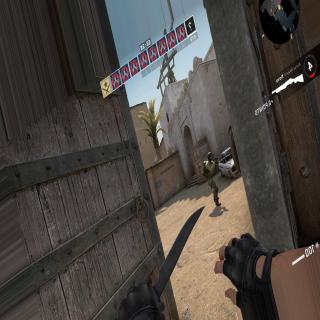CT-Body: (202, 150, 224, 207)
CT-Head: (206, 151, 213, 161)
